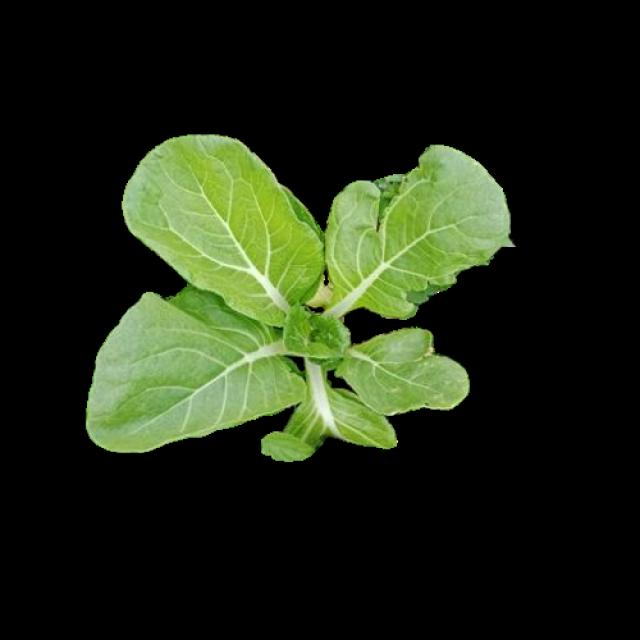mature: (88, 133, 511, 458)
unhealthy: (315, 145, 511, 321), (330, 328, 470, 411), (262, 384, 396, 460)
